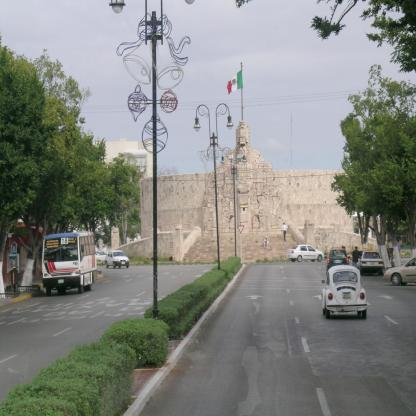Bus: (40, 232, 95, 293)
